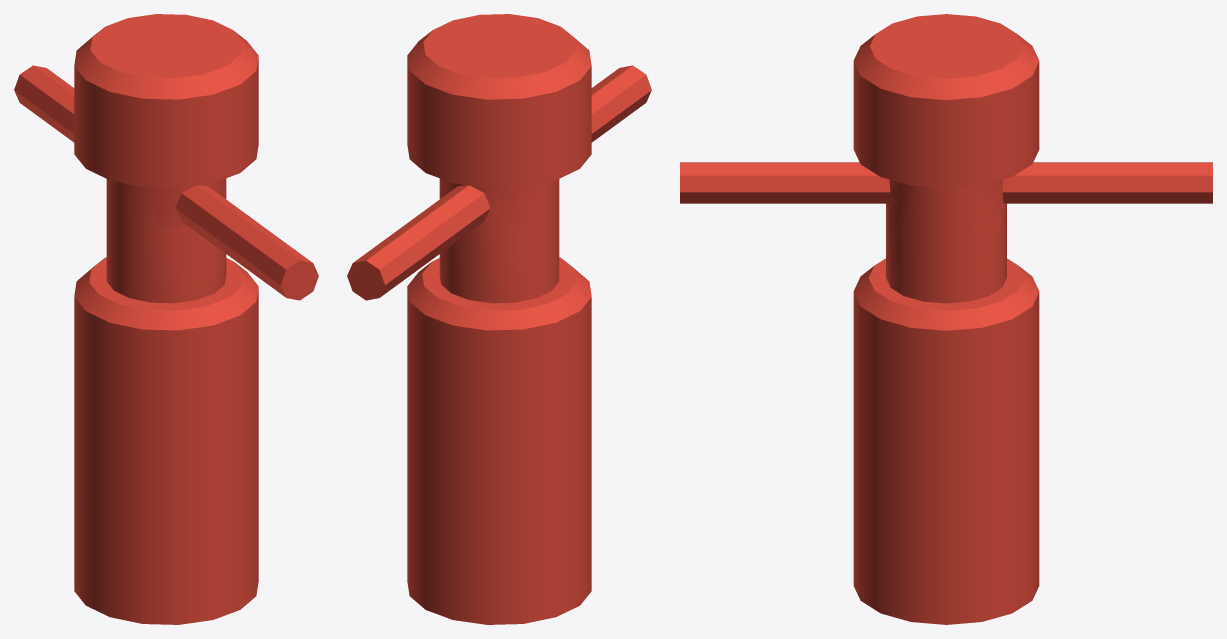
The model's file is SM_ENV_PORT_ANCHORAGE_PIN_01 (uv atualizada).fbx.
The picture shows the model from 3 angles, left to right: view 1: azimuth 30°, elevation 25°; view 2: azimuth 150°, elevation 25°; view 3: azimuth 270°, elevation 25°; orthographic projection.
Visible parts, largest first — view 1: SM_ENV_PORT_ANCHORAGE_PIN_01.002; view 2: SM_ENV_PORT_ANCHORAGE_PIN_01.002; view 3: SM_ENV_PORT_ANCHORAGE_PIN_01.002.
Boxes of the visible parts, x1,y1,x2,y2 form: SM_ENV_PORT_ANCHORAGE_PIN_01.002: (14, 14, 318, 624); SM_ENV_PORT_ANCHORAGE_PIN_01.002: (347, 14, 651, 624); SM_ENV_PORT_ANCHORAGE_PIN_01.002: (680, 14, 1212, 624).
Size of the model in its own units: 25 by 80 by 71.65.
